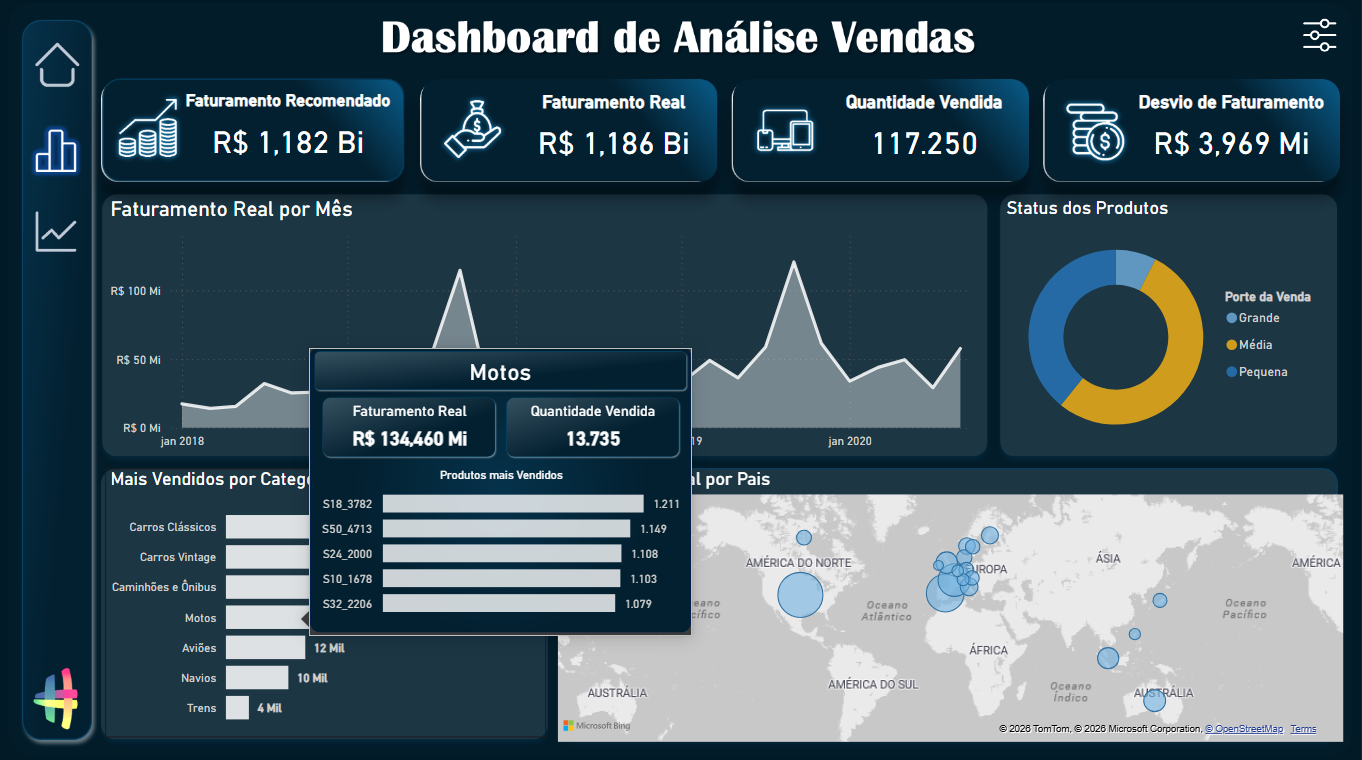

What the dashboard file says about the page in this screenshot:
{"tool":"powerbi","page":{"name":"Inicial","canvas":[1280,720],"ordinal":1},"visuals":[{"type":"card","title":"Faturamento Recomendado","fields":{"Values":["Medidas.Faturamento Total Previsto"]},"box":[168.9,89.5,207,73.8],"z":0},{"type":"card","title":"Faturamento Real","fields":{"Values":["Medidas.Faturamento Total Real"]},"box":[474.6,89.5,203.9,73.6],"z":1000},{"type":"card","title":"Quantidade Vendida","fields":{"Values":["Medidas.Qtde Vendida"]},"box":[770.8,89.5,194.7,73.8],"z":2000},{"type":"card","title":"Desvio de Faturamento","fields":{"Values":["Medidas.Desvio de Preço"]},"box":[1056.3,89.2,199.7,73.6],"z":3000},{"type":"stackedAreaChart","title":"Faturamento Real por Mês","fields":{"Category":["dCalendario.Inicio do Mês"],"Y":["Medidas.Faturamento Total Real"]},"box":[100.4,188.5,827.7,243.2],"z":4000},{"type":"image","title":"Botão de Filtro","box":[1219.2,21.2,39,31.2],"z":5000},{"type":"clusteredBarChart","title":"Mais Vendidos por Categoria","fields":{"Y":["Medidas.Qtde Vendida"],"Category":["dProduto.Categoria"]},"box":[100.4,442.8,413.8,252.1],"z":6000},{"type":"map","title":"Faturamento Real por Pais","fields":{"Category":["dLocalidade.Pais"],"Size":["Medidas.Faturamento Total Real"]},"box":[519.8,442.8,746.2,261],"z":7000},{"type":"actionButton","title":"Botão Capa","box":[22.3,37.2,68.3,60.8],"z":8000},{"type":"donutChart","title":"Status dos Produtos","fields":{"Y":["Medidas.Qtde Vendida"],"Series":["fVendas.Porte da Venda1"]},"box":[940.3,188.5,317.9,243.2],"z":9000},{"type":"actionButton","box":[22.6,191.3,67.8,57.1],"z":11000},{"type":"actionButton","title":"Botão Capa","box":[21.1,187.5,68.3,60.8],"z":12000}]}

Visuals, with their boxes on the page's 1280x720 design canvas (x1, y1, x2, y2). These are canvas units, not pixel positions in the 1362x760 screenshot, which may show the page scaled, cropped or inside an application window:
"Faturamento Recomendado" card: x1=169, y1=90, x2=376, y2=163
"Faturamento Real" card: x1=475, y1=90, x2=678, y2=163
"Quantidade Vendida" card: x1=771, y1=90, x2=966, y2=163
"Desvio de Faturamento" card: x1=1056, y1=89, x2=1256, y2=163
"Faturamento Real por Mês" stackedAreaChart: x1=100, y1=188, x2=928, y2=432
"Botão de Filtro" image: x1=1219, y1=21, x2=1258, y2=52
"Mais Vendidos por Categoria" clusteredBarChart: x1=100, y1=443, x2=514, y2=695
"Faturamento Real por Pais" map: x1=520, y1=443, x2=1266, y2=704
"Botão Capa" actionButton: x1=22, y1=37, x2=91, y2=98
"Status dos Produtos" donutChart: x1=940, y1=188, x2=1258, y2=432
actionButton: x1=23, y1=191, x2=90, y2=248
"Botão Capa" actionButton: x1=21, y1=188, x2=89, y2=248
